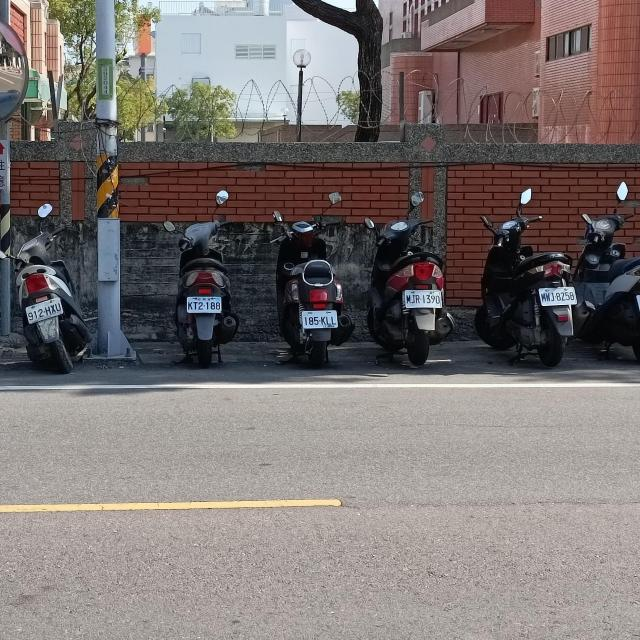W: (24, 297, 64, 323), (537, 285, 577, 306), (402, 289, 443, 308), (300, 310, 338, 328), (185, 296, 222, 313)
